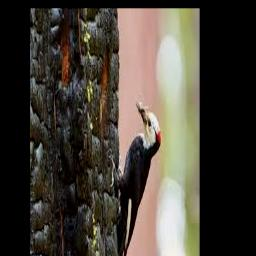Woodpecker: (109, 98, 160, 256)
